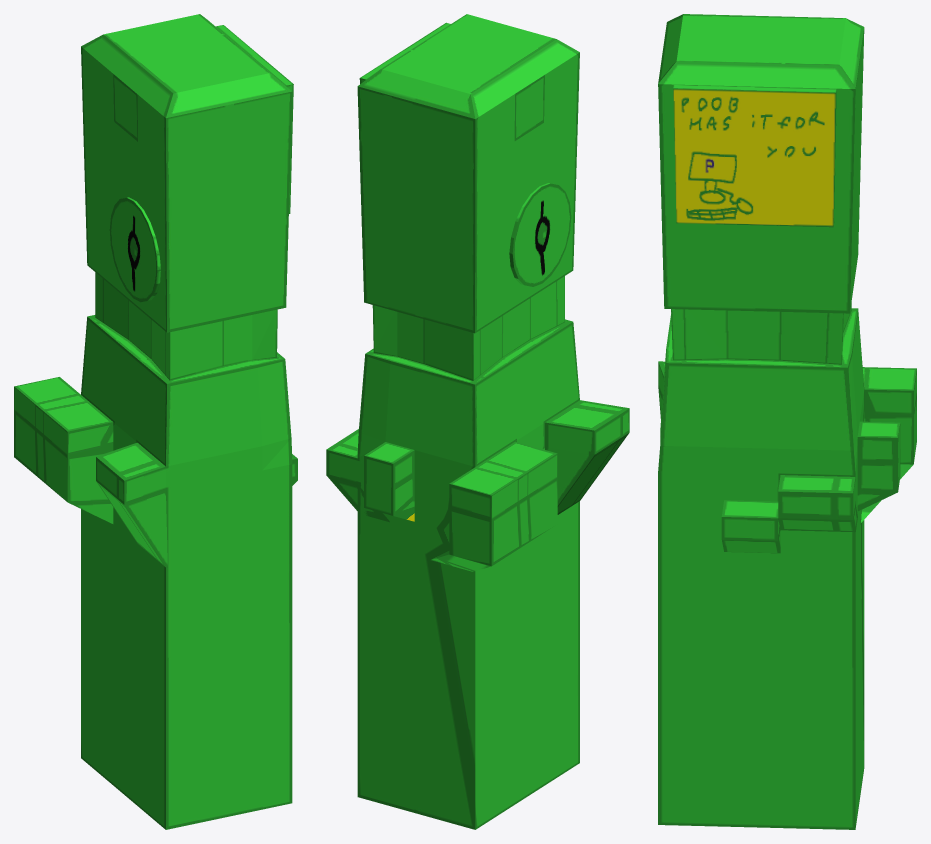
File: map-proto-1.fbx
3 views of the same model, side by side, from view 1: azimuth 30°, elevation 25°; view 2: azimuth 150°, elevation 25°; view 3: azimuth 270°, elevation 25° (orthographic). The views are drawn at different scales.
Parts seen in each view (by area): view 1: pCylinder2; view 2: pCylinder2; view 3: pCylinder2.
Boxes of the visible parts, x1,y1,x2,y2 form: pCylinder2: (14, 14, 297, 829); pCylinder2: (326, 14, 629, 829); pCylinder2: (658, 14, 916, 829).
Size of the model in its own units: 15.26 by 50.39 by 15.62.
Materials: 1 (1 with a texture image).
